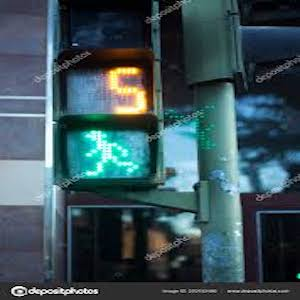green: (74, 125, 139, 185)
